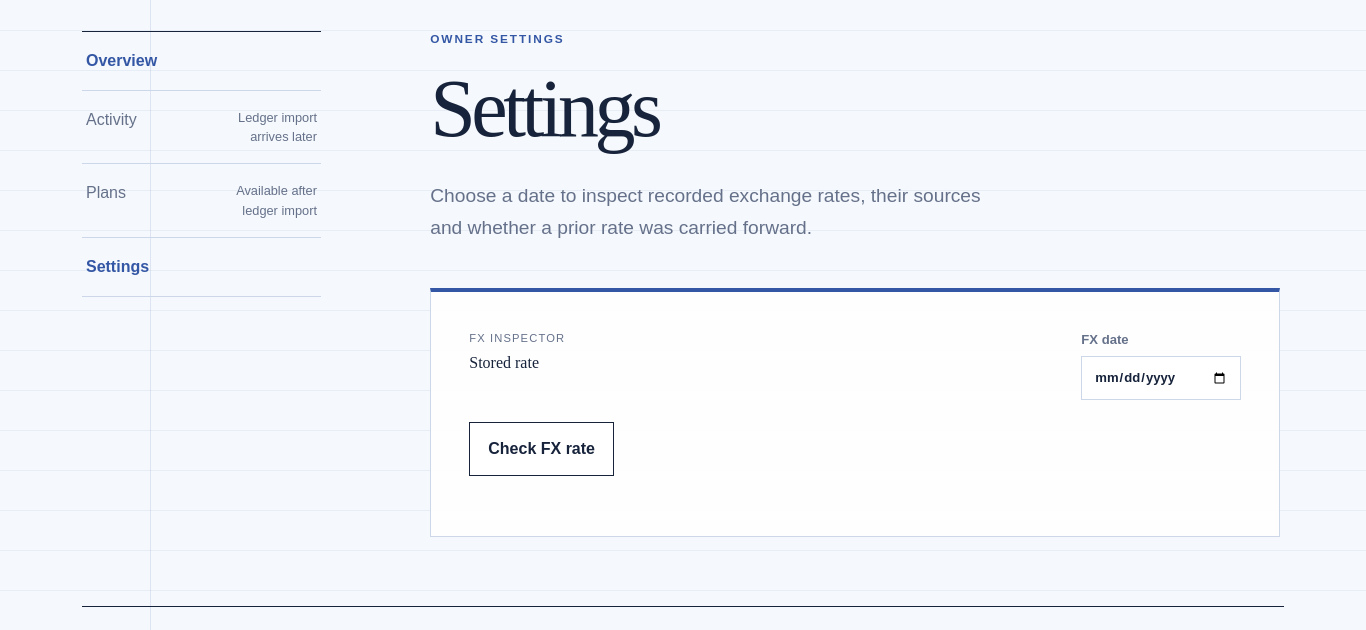
authenticated workspace › keeps FX results tied to the latest requested date
The image size is (1366, 630).
Expected: the heading "Settings" is shown, left=430, top=63, right=658, bottom=154
Type "2024-01-31" into the date field labelled "FX date" at (1161, 378), box left=1081, top=356, right=1241, bottom=400
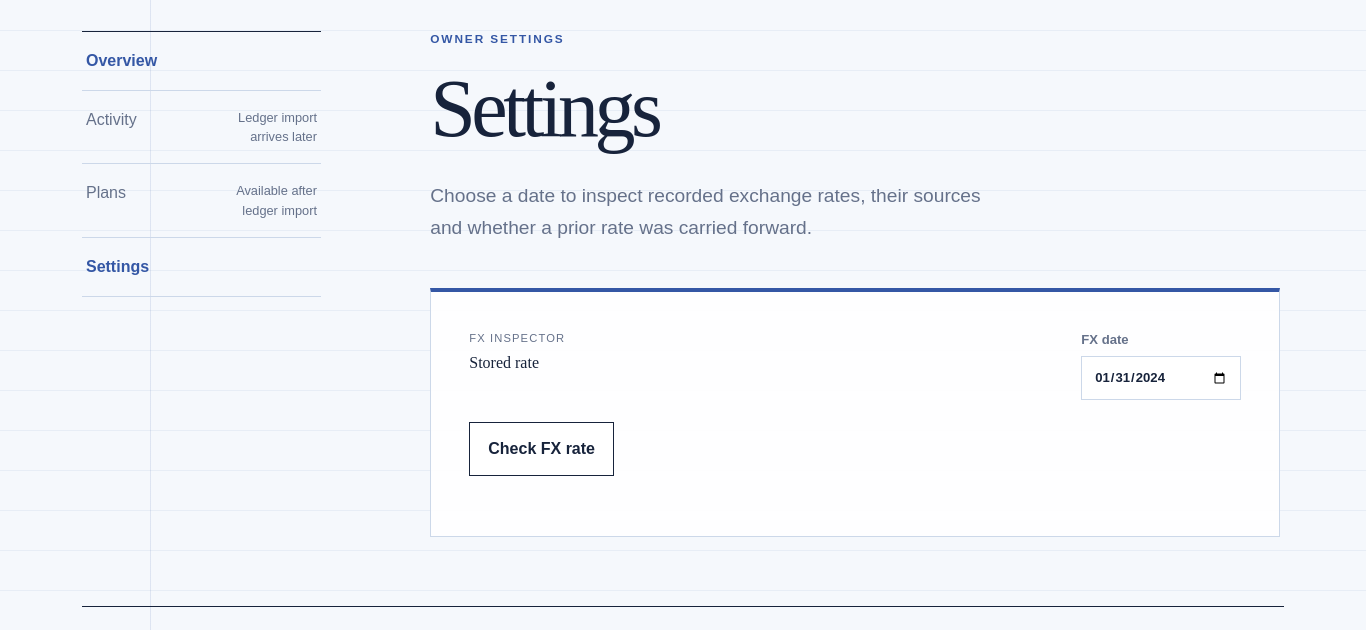
Click the button "Check FX rate" at (542, 449), box left=469, top=422, right=614, bottom=476
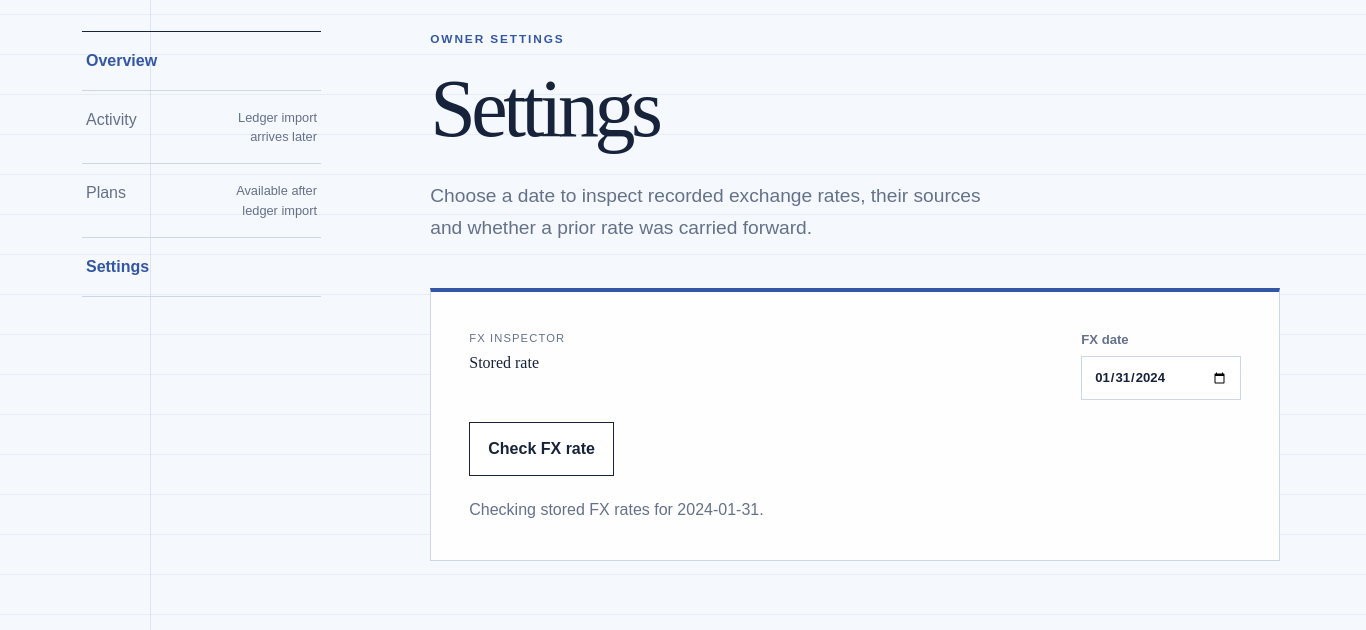
Type "2024-02-02" into the date field labelled "FX date" at (1161, 378), box left=1081, top=356, right=1241, bottom=400
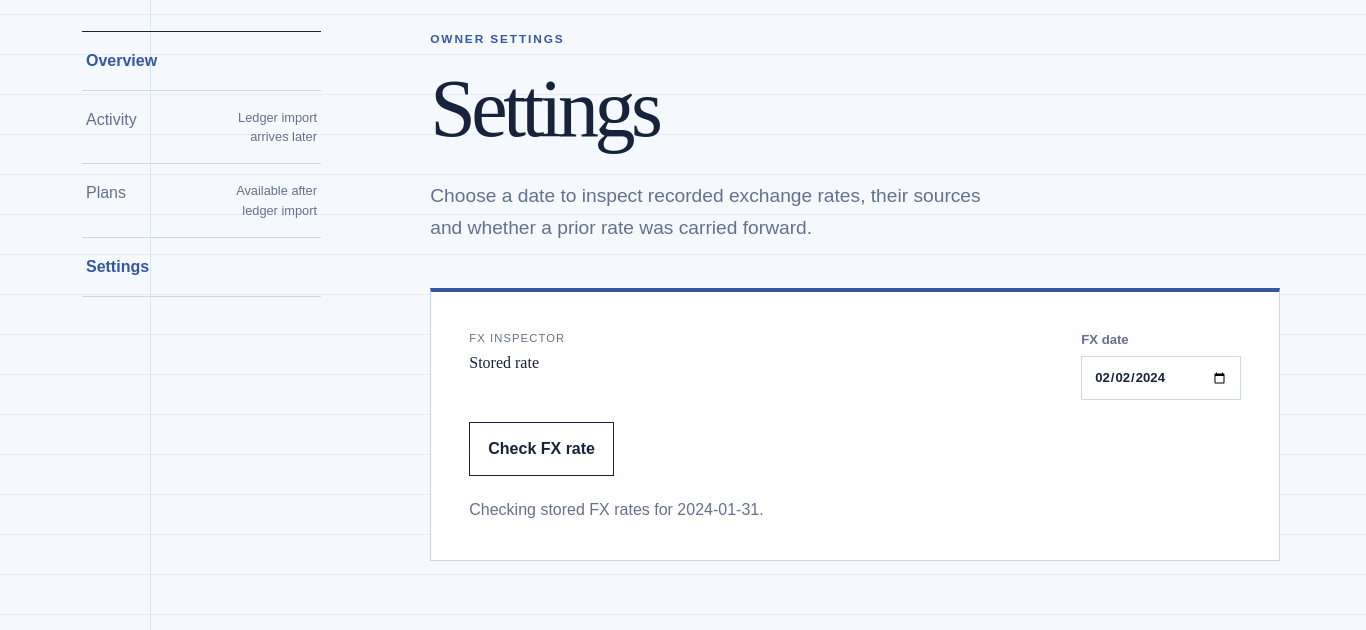
Click the button "Check FX rate" at (542, 449), box left=469, top=422, right=614, bottom=476
(page scrolled)
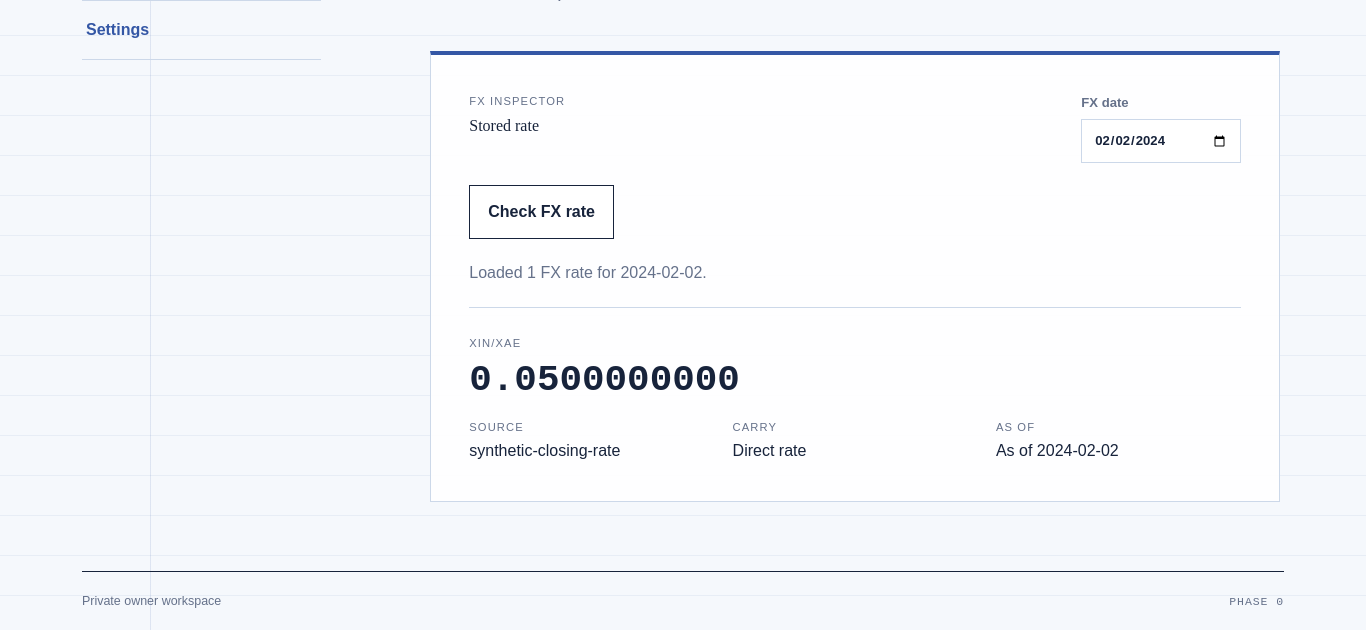
Result: the text "0.0500000000" is shown at left=469, top=359, right=740, bottom=401
Result: the text "As of 2024-02-02" is shown at left=996, top=442, right=1119, bottom=459
